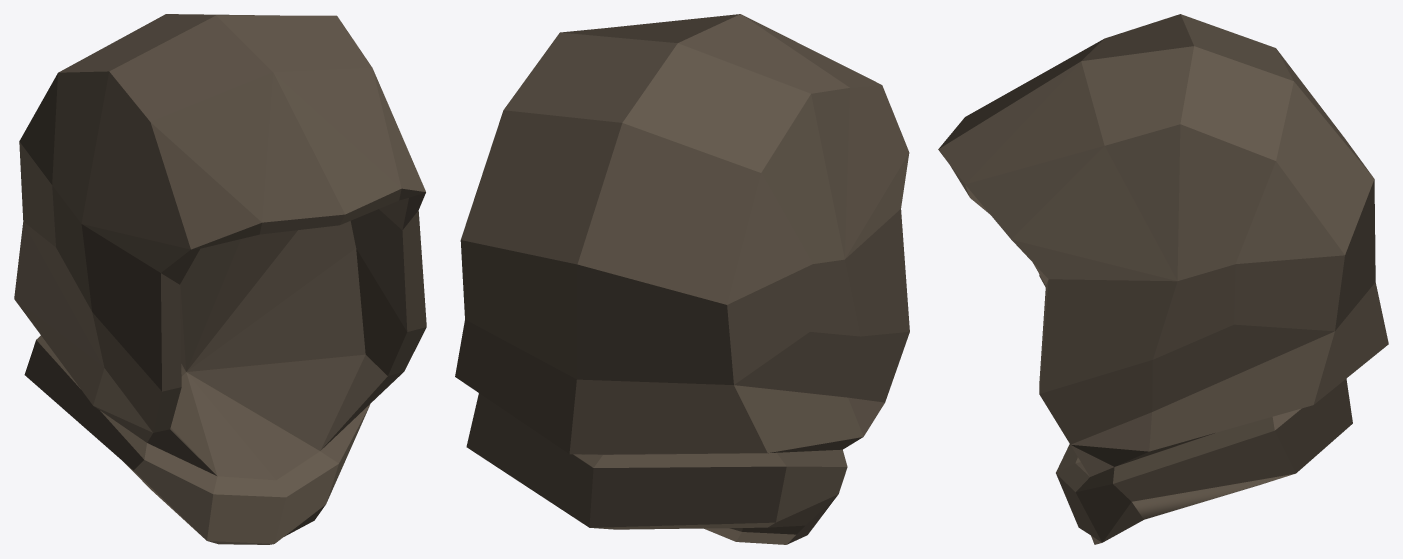
The model's file is Chr_HeadCoverings_No_Hair_07_Static.fbx.
The picture shows the model from 3 angles, left to right: view 1: azimuth 30°, elevation 25°; view 2: azimuth 150°, elevation 25°; view 3: azimuth 270°, elevation 25°; orthographic projection. The views are drawn at different scales.
Parts seen in each view (by area): view 1: Chr_HeadCoverings_No_Hair_07_Static; view 2: Chr_HeadCoverings_No_Hair_07_Static; view 3: Chr_HeadCoverings_No_Hair_07_Static.
Boxes of the visible parts, <box> form: Chr_HeadCoverings_No_Hair_07_Static: <box>14,14,426,544</box>; Chr_HeadCoverings_No_Hair_07_Static: <box>455,14,909,544</box>; Chr_HeadCoverings_No_Hair_07_Static: <box>938,14,1388,544</box>.
Bounding box in the file's own units: 0.2796 × 0.4498 × 0.3777.
